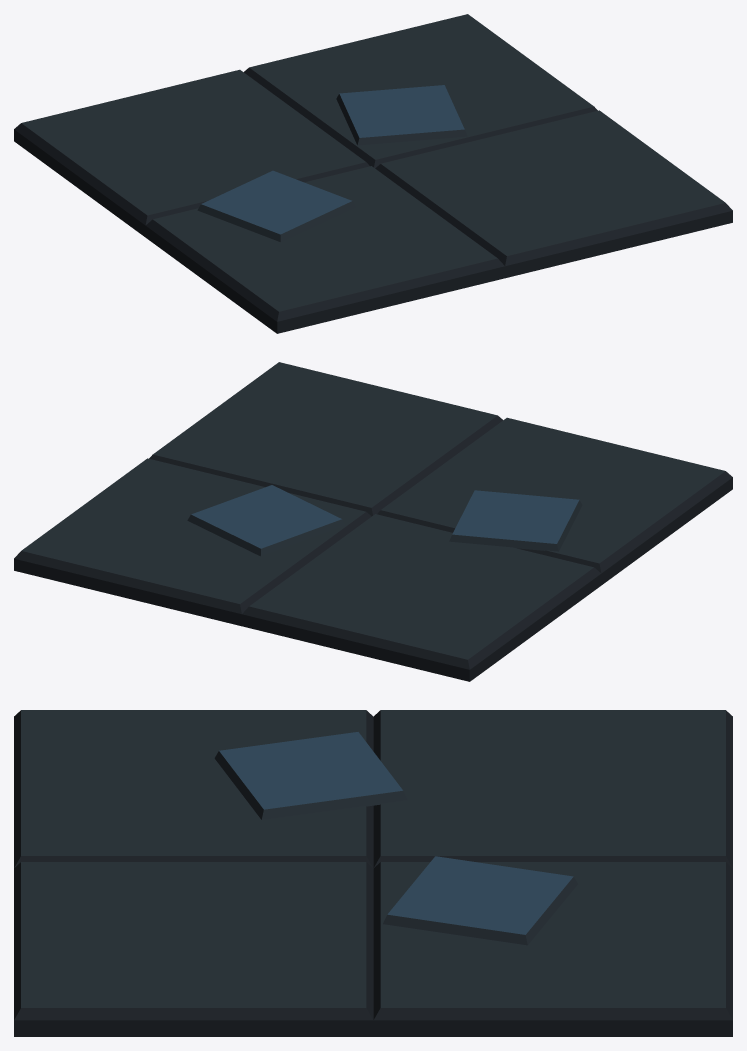
Rendered from db_floor.glb.
3 renders of one model, top to bottom at view 1: azimuth 30°, elevation 25°; view 2: azimuth 150°, elevation 25°; view 3: azimuth 270°, elevation 25°, orthographic. The views are drawn at different scales.
Parts seen in each view (by area): view 1: Floor; view 2: Floor; view 3: Floor.
Part boxes in pixels (x1,y1,x2,y2): Floor: (14,14,732,333); Floor: (14,362,732,681); Floor: (14,710,732,1036).
Bounding box in the file's own units: 5 × 0.2655 × 5.
1 material, 1 textured.
